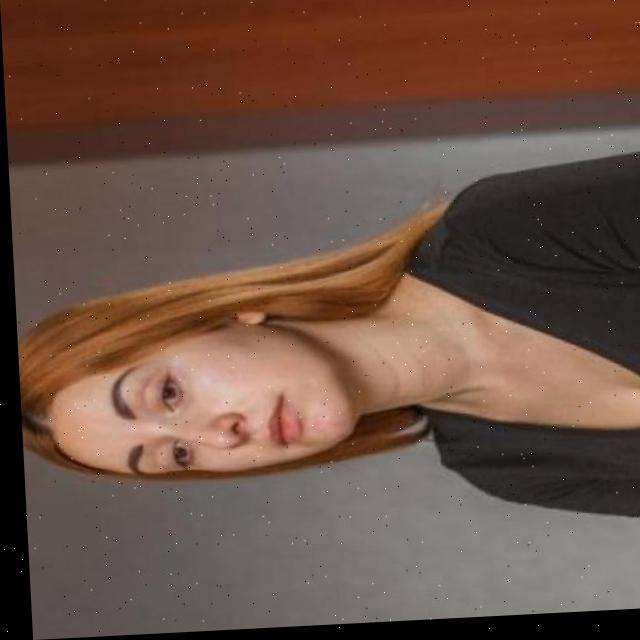Acne: (310, 400, 340, 441)
